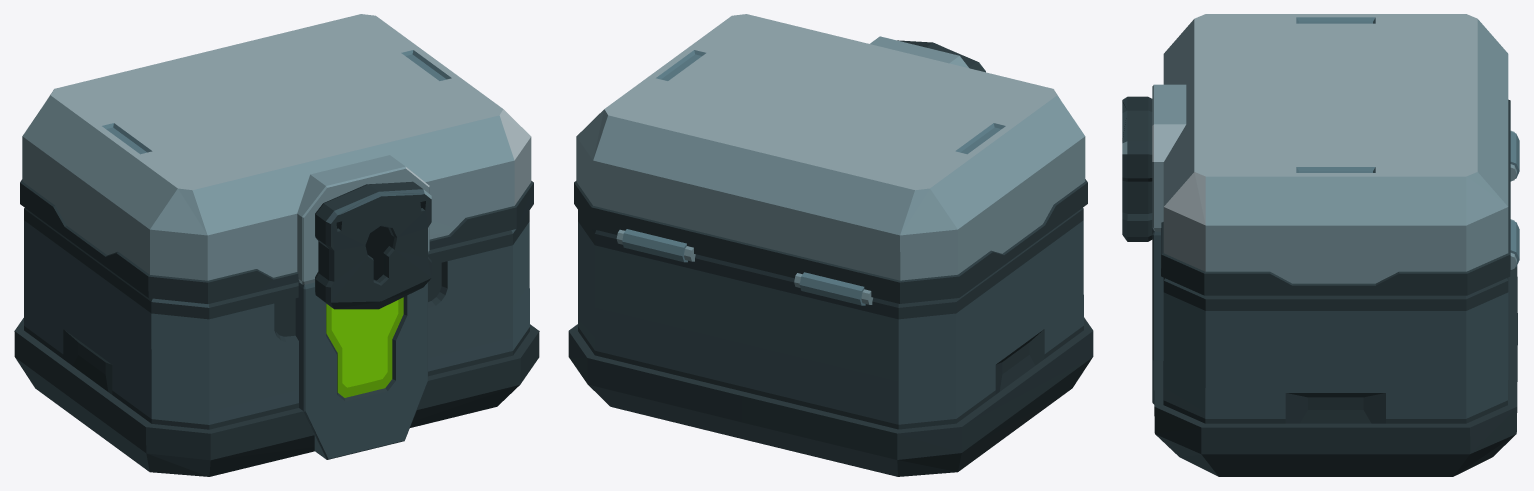
The model's file is Icon_Box_BOXNORMAL_G2_02.fbx.
3 renders of one model, left to right at view 1: azimuth 30°, elevation 25°; view 2: azimuth 150°, elevation 25°; view 3: azimuth 270°, elevation 25°, orthographic. The views are drawn at different scales.
Parts seen in each view (by area): view 1: Object003, BOX_MATERAL_G1_01, Object004; view 2: Object003, BOX_MATERAL_G1_01; view 3: Object003, BOX_MATERAL_G1_01, Object004.
Boxes of the visible parts, left/top/right/bottom form: Object003: left=20, top=14, right=533, bottom=303; BOX_MATERAL_G1_01: left=14, top=208, right=539, bottom=476; Object004: left=315, top=181, right=431, bottom=309; Object003: left=574, top=14, right=1087, bottom=305; BOX_MATERAL_G1_01: left=568, top=208, right=1093, bottom=476; Object003: left=1152, top=14, right=1519, bottom=295; BOX_MATERAL_G1_01: left=1152, top=228, right=1517, bottom=476; Object004: left=1122, top=96, right=1152, bottom=241.
Size of the model in its own units: 185 by 128 by 158.
Materials: 1 (1 with a texture image).
